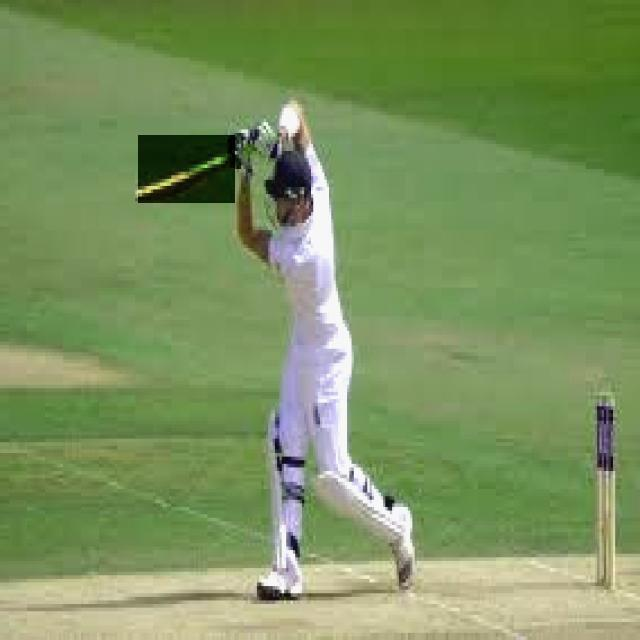bat: (138, 134, 234, 198)
